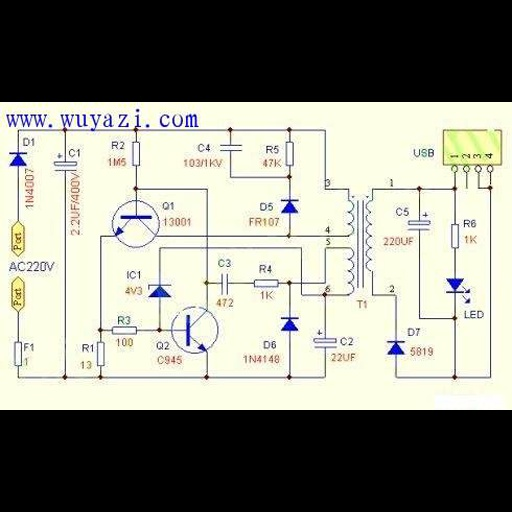capacitor: (218, 271, 233, 296), (216, 143, 246, 155)
firstdiode: (383, 334, 406, 361), (274, 312, 302, 334), (276, 196, 303, 215), (5, 150, 28, 167)
firstled: (441, 274, 474, 305)
firstresistance: (109, 324, 143, 337), (130, 139, 145, 168), (251, 276, 280, 290), (449, 220, 461, 251), (285, 138, 296, 170), (95, 339, 107, 368)
npn: (114, 210, 155, 239), (182, 311, 209, 351)
secondpolarcapacitor: (311, 329, 339, 350), (51, 152, 78, 172), (409, 212, 432, 232)
transformer: (343, 197, 377, 295)
